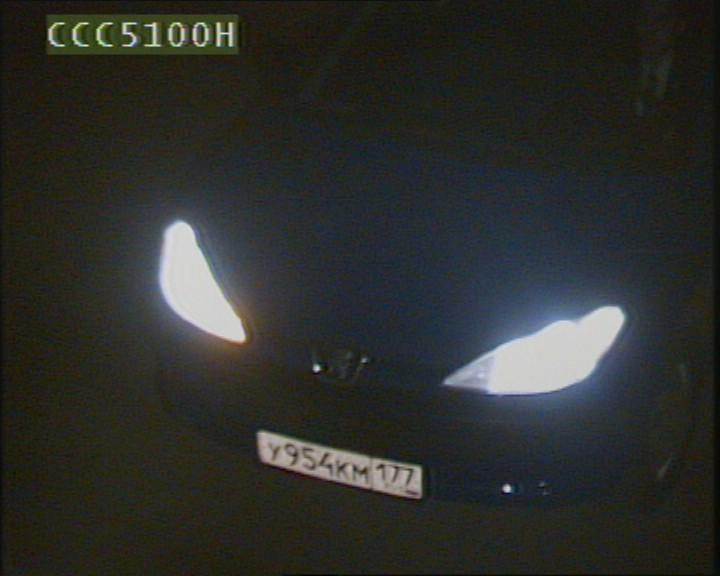license-plateSW: (255, 435, 423, 503)
